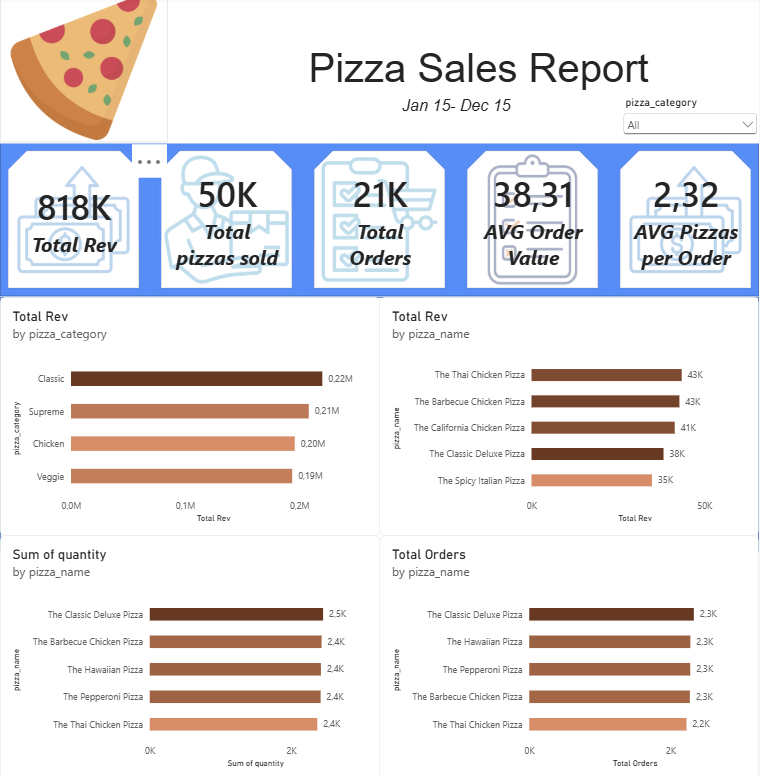

Layout of this report page (visuals, bound fields, positions):
{"tool":"powerbi","page":{"name":"Duplicate of Page 1","canvas":[1920,1080],"ordinal":1},"visuals":[{"type":"shape","box":[0,230,1013,205],"z":0},{"type":"cardVisual","fields":{"Data":["pizza_sales.Total Rev","pizza_sales.Total pizzas sold","pizza_sales.Total Oreders","pizza_sales.AVG Order Value","pizza_sales.AVG Pizzas per Order"]},"box":[0,230,1013.3,205],"z":1000},{"type":"textbox","box":[0,25,1013,205],"z":2000},{"type":"image","box":[0,25,223.3,205],"z":3000},{"type":"textbox","box":[1023,25,897,205],"z":4000},{"type":"textbox","box":[536.7,168.3,208.3,40],"z":5000},{"type":"shape","box":[0,435,1013.3,340],"z":6000},{"type":"clusteredBarChart","fields":{"Category":["pizza_sales.pizza_category"],"Y":["pizza_sales.Total Rev"]},"box":[0,435,506.7,318.3],"z":7000},{"type":"slicer","fields":{"Values":["pizza_sales.pizza_category"]},"box":[825,168.3,188.3,61.7],"z":12000},{"type":"clusteredBarChart","fields":{"Category":["pizza_sales.pizza_name"],"Y":["pizza_sales.Total Rev"]},"box":[506.7,435,506.7,318.3],"z":12001},{"type":"clusteredBarChart","fields":{"Category":["pizza_sales.pizza_name"],"Y":["pizza_sales.Total Orders"]},"box":[506.7,753.3,506.7,326.7],"z":12002},{"type":"clusteredBarChart","fields":{"Category":["pizza_sales.pizza_name"],"Y":["Sum(pizza_sales.quantity)"]},"box":[0,753.3,506.7,326.7],"z":12003}]}

Visuals, with their boxes on the page's 1920x1080 design canvas (x1, y1, x2, y2). These are canvas units, not pixel positions in the 760x778 screenshot, which may show the page scaled, cropped or inside an application window:
shape: 0/230/1013/435
cardVisual - pizza_sales.Total Rev x pizza_sales.Total pizzas sold: 0/230/1013/435
textbox: 0/25/1013/230
image: 0/25/223/230
textbox: 1023/25/1920/230
textbox: 537/168/745/208
shape: 0/435/1013/775
clusteredBarChart - pizza_sales.pizza_category x pizza_sales.Total Rev: 0/435/507/753
slicer - pizza_sales.pizza_category: 825/168/1013/230
clusteredBarChart - pizza_sales.pizza_name x pizza_sales.Total Rev: 507/435/1013/753
clusteredBarChart - pizza_sales.pizza_name x pizza_sales.Total Orders: 507/753/1013/1080
clusteredBarChart - pizza_sales.pizza_name x Sum(pizza_sales.quantity): 0/753/507/1080
